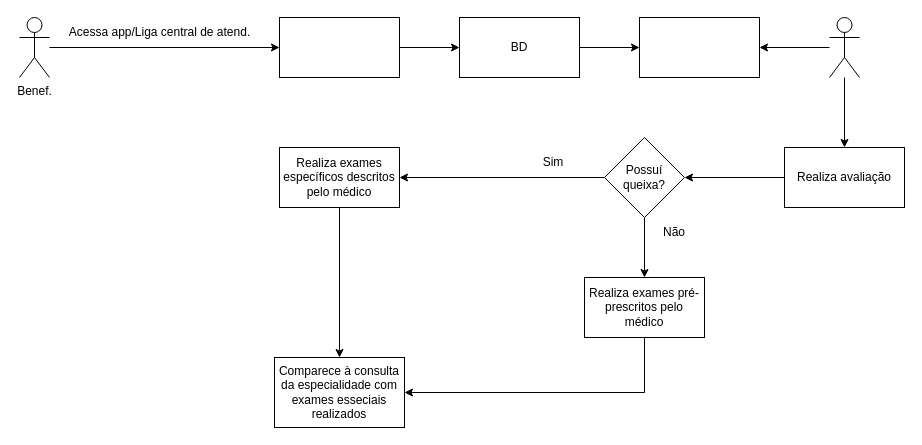
The diagram is 922 pixels wide and 445 high, and some of its shapes have lost their labels. Here are the shapes that lost their labels. From the top down, the box of each, then its label:
(278, 16, 400, 78): Marca consulta
(638, 16, 760, 78): Portal Func.
(828, 16, 860, 78): Func.
